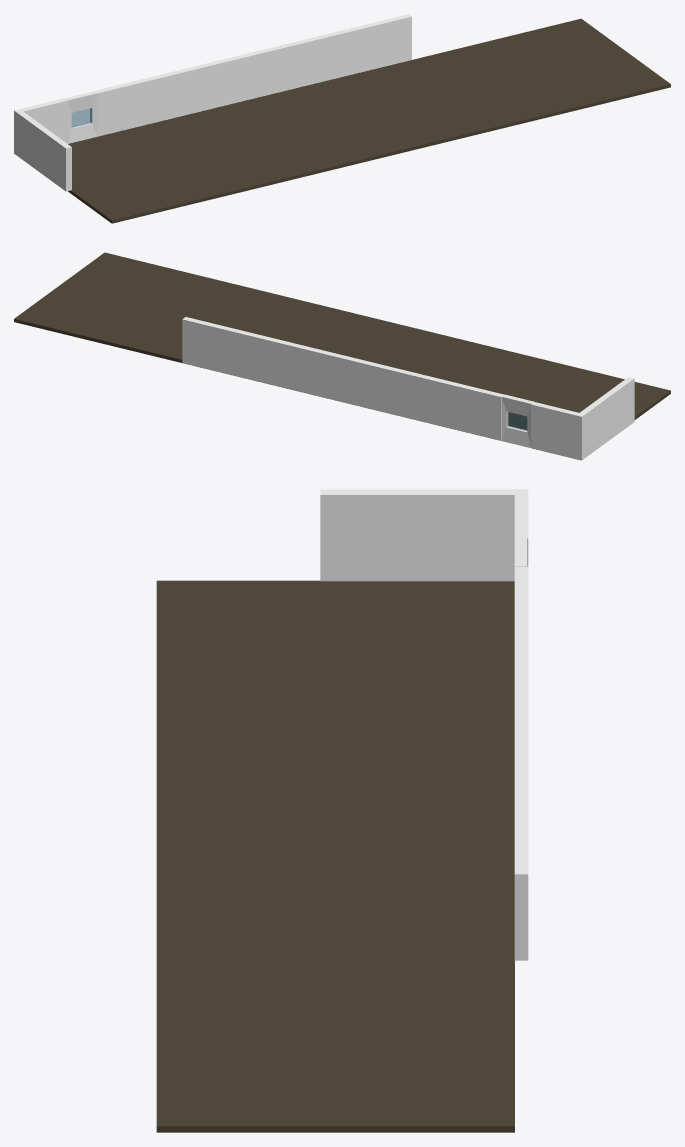
File: doesnotcommute_wall.glb
The picture shows the model from 3 angles, top to bottom: view 1: azimuth 30°, elevation 25°; view 2: azimuth 150°, elevation 25°; view 3: azimuth 270°, elevation 25°; orthographic projection. The views are drawn at different scales.
Visible parts, largest first — view 1: Cube.008, Cube.010, Cube.013, Cube.009, Cube.007, Cube.004, Cube.001, Cube.011, Cube.012, Cube.002, Cube.006, Cube.003 (+13 smaller); view 2: Cube.004, Cube.009, Cube.012, Cube.010, Cube.011, Cube.007, Cube.008, Cube.005, Cube.013, Wall.002, Wall.001, Wall.005 (+8 smaller); view 3: Cube.004, Cube.009, Cube.006, Cube.005, Cube, Cube.003, Cube.002, Cube.001, Cube.010, Cube.007, Cube.013, Cube.008 (+5 smaller).
Part boxes in pixels (<box>): Cube.008: <box>465,69,590,126</box>; Cube.010: <box>308,108,431,164</box>; Cube.013: <box>68,169,192,223</box>; Cube.009: <box>545,51,670,106</box>; Cube.007: <box>389,89,510,145</box>; Cube.004: <box>501,18,627,71</box>; Cube.001: <box>103,116,227,169</box>; Cube.011: <box>229,130,351,184</box>; Cube.012: <box>149,150,272,203</box>; Cube.002: <box>183,96,307,149</box>; Cube.006: <box>343,57,467,110</box>; Cube.003: <box>263,77,384,130</box>; Cube.004: <box>14,285,140,341</box>; Cube.009: <box>58,252,185,306</box>; Cube.012: <box>463,351,589,403</box>; Cube.010: <box>301,311,427,363</box>; Cube.011: <box>385,331,508,384</box>; Cube.007: <box>223,292,346,343</box>; Cube.008: <box>142,272,265,323</box>; Cube.005: <box>94,304,221,361</box>; Cube.013: <box>545,371,670,419</box>; Wall.002: <box>409,372,458,429</box>; Wall.001: <box>455,383,503,440</box>; Wall.005: <box>182,317,230,373</box>; Cube.004: <box>329,1048,514,1132</box>; Cube.009: <box>156,1048,341,1132</box>; Cube.006: <box>329,892,514,970</box>; Cube.005: <box>329,970,514,1048</box>; Cube: <box>329,581,514,659</box>; Cube.003: <box>329,814,514,892</box>; Cube.002: <box>329,736,514,814</box>; Cube.001: <box>329,659,514,737</box>; Cube.010: <box>156,814,341,892</box>; Cube.007: <box>156,892,341,970</box>; Cube.013: <box>156,580,341,659</box>; Cube.008: <box>156,970,341,1048</box>.
Size of the model in its own units: 96.44 by 7.62 by 27.53.
Materials: 26 (1 with a texture image).
